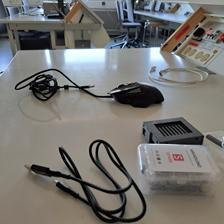mouse: (106, 80, 165, 109)
